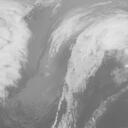cyclone: (35, 47, 87, 97)
